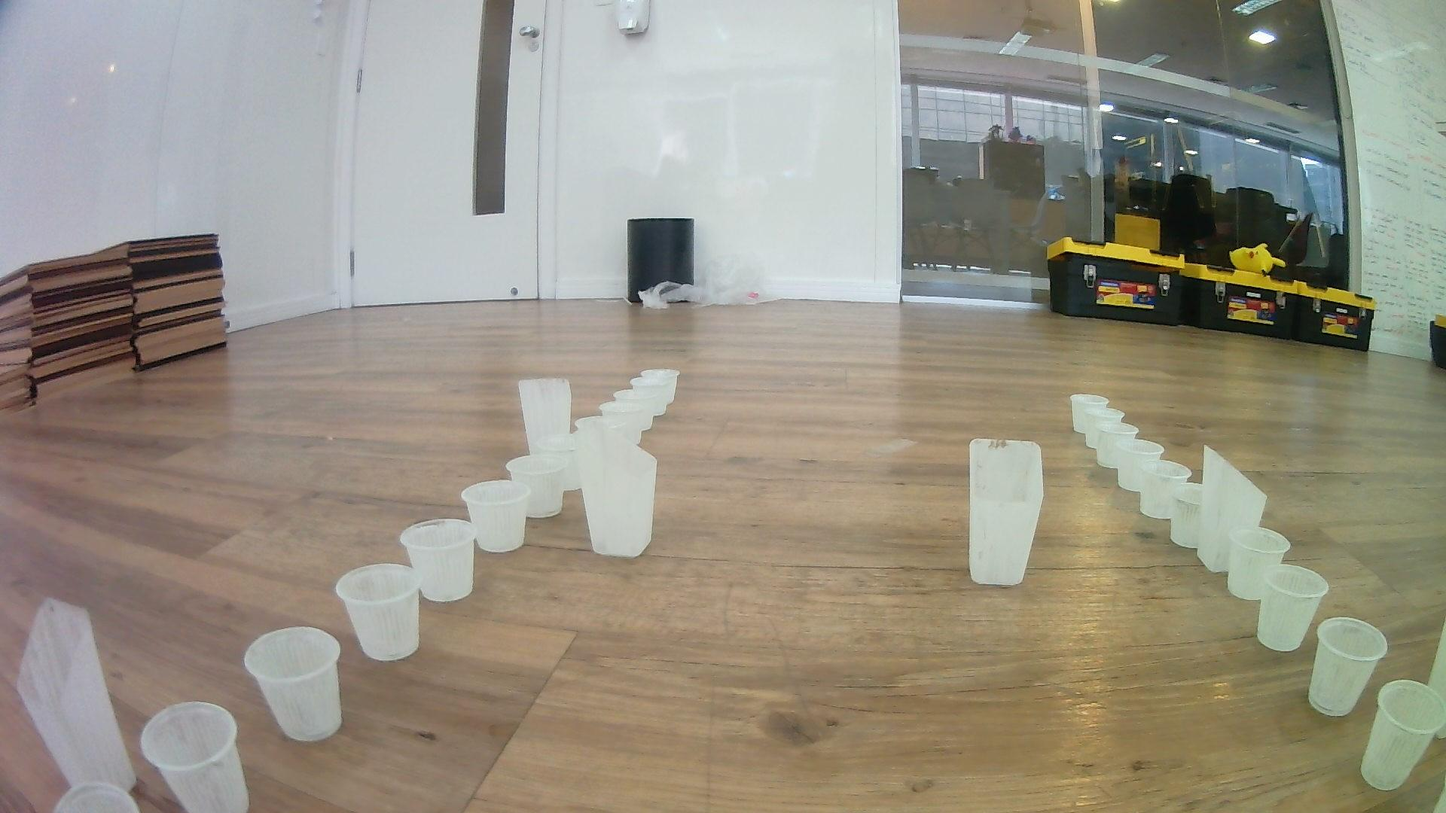erva_daninha: (12, 596, 137, 803), (966, 436, 1044, 588), (578, 425, 657, 560), (1195, 445, 1269, 575), (517, 376, 572, 456)
planta: (139, 699, 249, 813), (243, 624, 346, 744), (1359, 678, 1446, 792), (334, 562, 423, 663), (1306, 615, 1390, 718), (1256, 564, 1330, 653), (401, 519, 478, 604), (460, 480, 532, 554), (1225, 526, 1292, 601), (505, 454, 571, 519), (1137, 459, 1194, 520), (535, 434, 587, 493), (1115, 438, 1167, 492), (53, 783, 142, 813), (598, 400, 654, 443), (1168, 482, 1203, 550), (1096, 422, 1139, 469), (1081, 407, 1127, 450), (1069, 394, 1111, 434), (612, 388, 667, 416), (639, 368, 682, 401), (629, 376, 677, 405), (573, 416, 623, 434)
